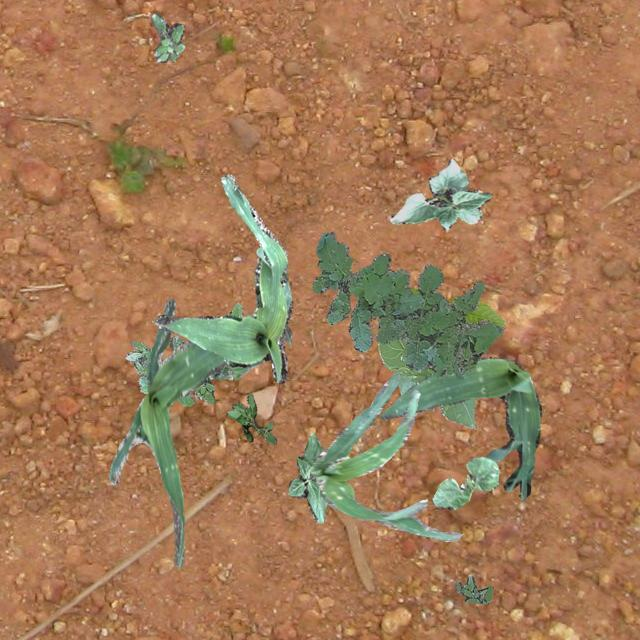crop: (108, 298, 292, 568), (154, 172, 292, 382), (310, 372, 460, 540), (378, 356, 540, 500), (376, 336, 476, 428), (388, 158, 491, 230), (409, 287, 504, 327), (286, 432, 326, 522), (432, 456, 498, 508), (210, 360, 264, 378)
weed: (312, 230, 502, 378), (123, 336, 214, 406), (190, 302, 242, 398), (226, 392, 276, 443), (150, 12, 183, 62), (454, 574, 492, 602)
